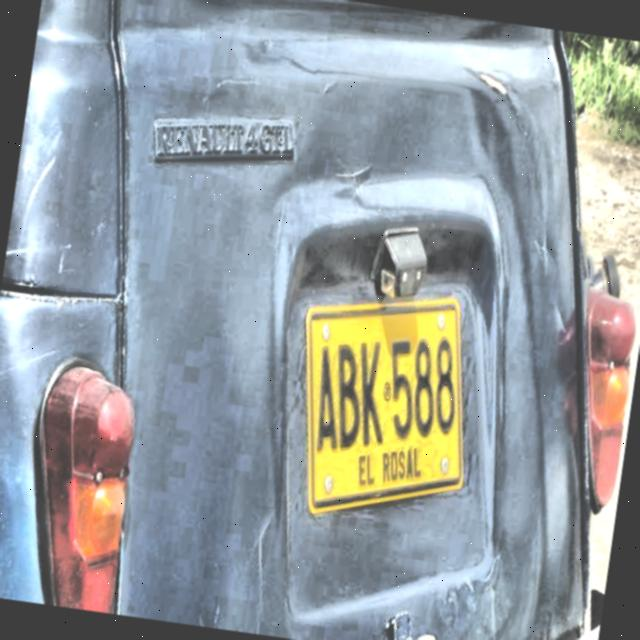5: (390, 337, 416, 444)
8: (414, 336, 437, 442), (434, 334, 457, 437)
A: (314, 345, 338, 457)
B: (334, 340, 362, 453)
K: (358, 339, 389, 451)
